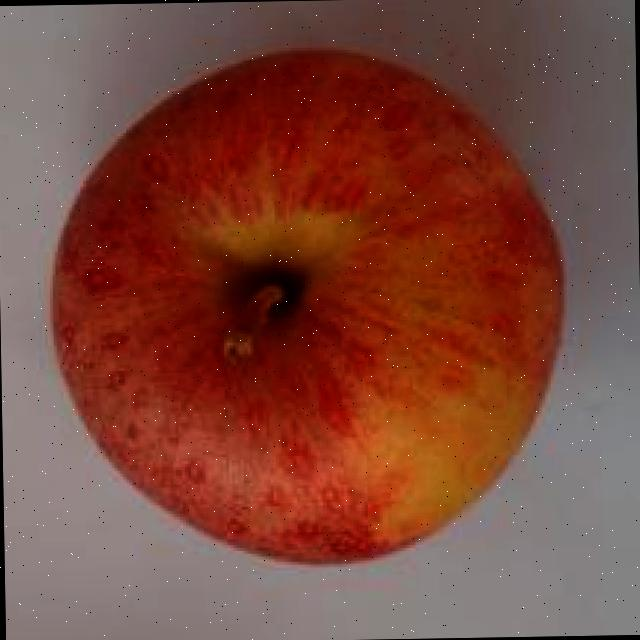apple: (23, 23, 606, 600)
